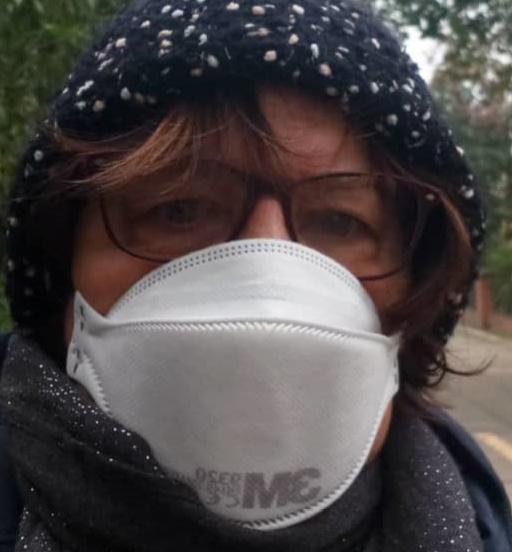OK: (72, 121, 407, 530)
